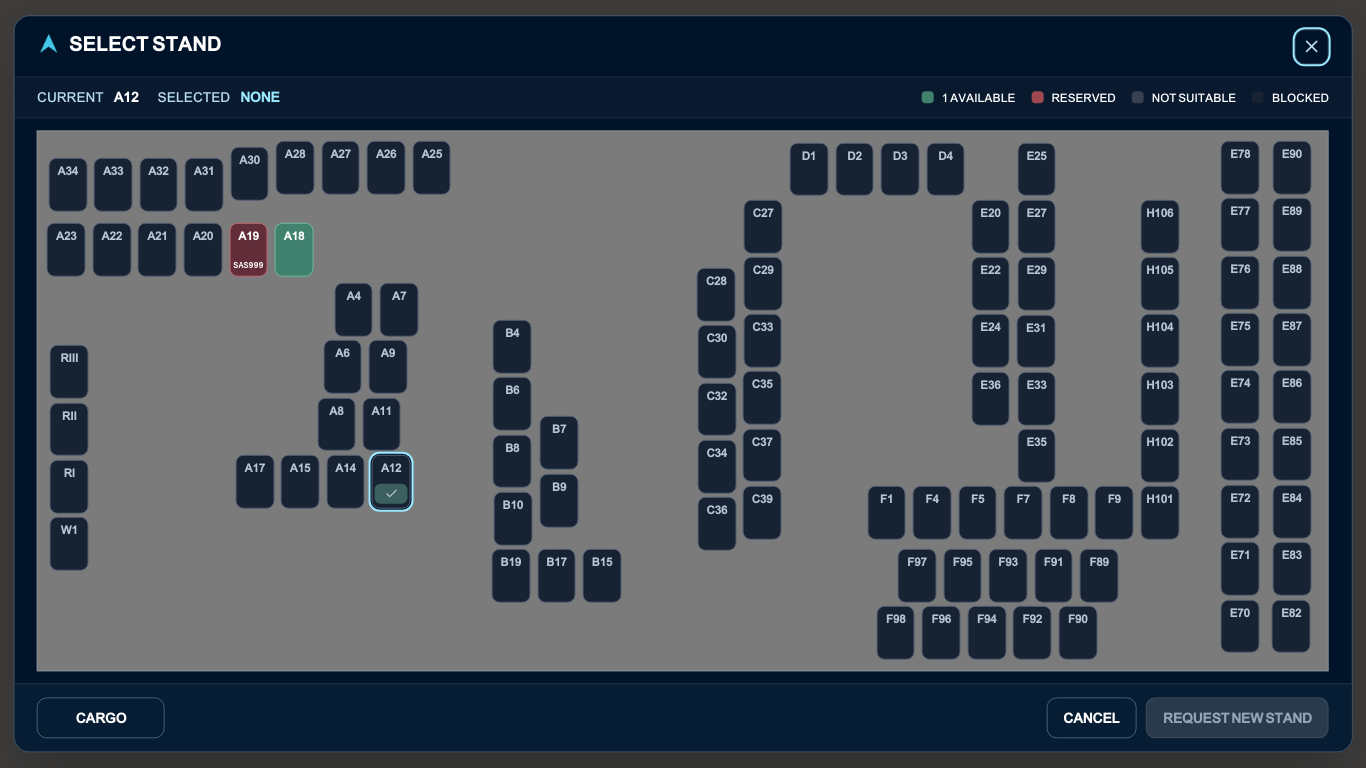
Test: EFB operational dialogs › shows current stand availability and keeps a rejected request open
Check: the button with aria-label "Stand A19" shows "SAS999", box x1=229 y1=223 x2=268 y2=276
Check: the button titled "A19: Unavailable: reserved by SAS999" is disabled, box x1=229 y1=223 x2=268 y2=276
Click the button named "Stand A18": (294, 250) x1=275 y1=223 x2=313 y2=276
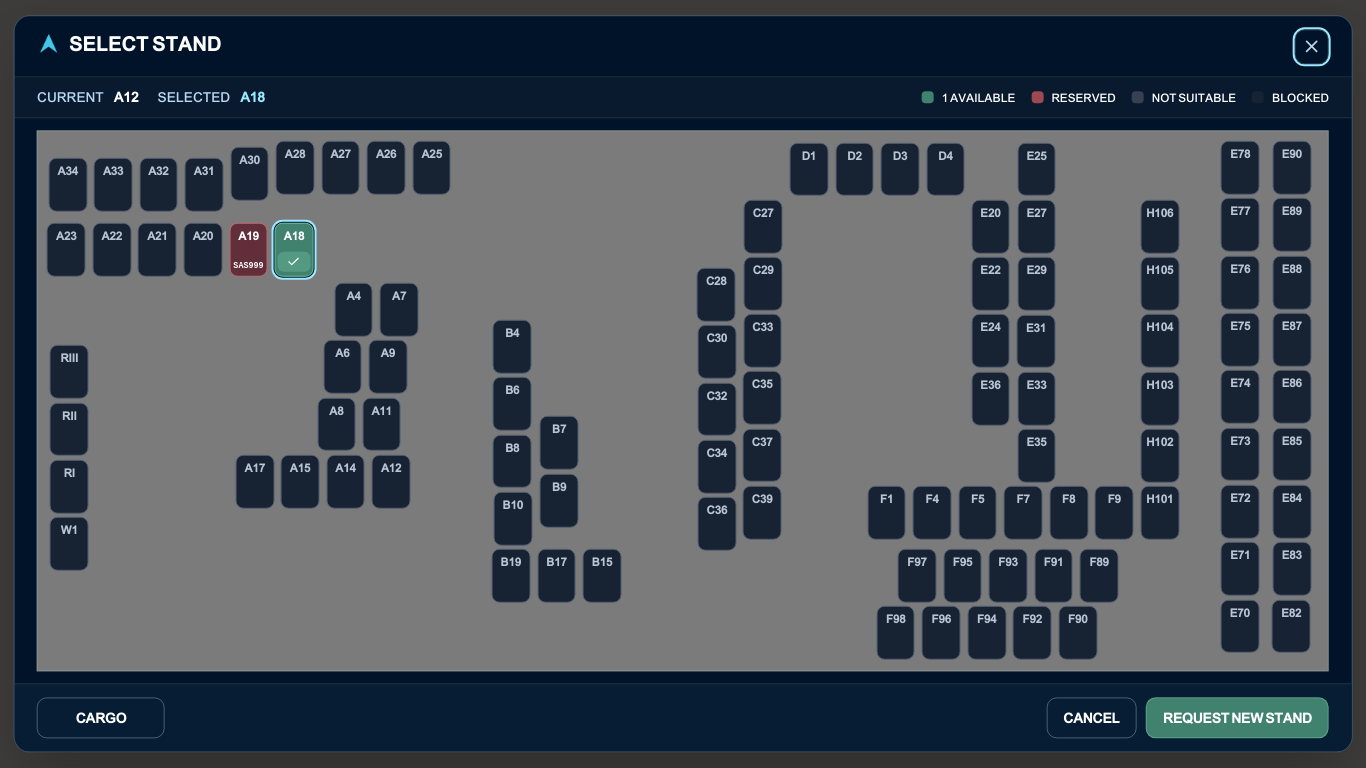
Click the button "REQUEST NEW STAND": (1238, 718) x1=1146 y1=698 x2=1329 y2=739
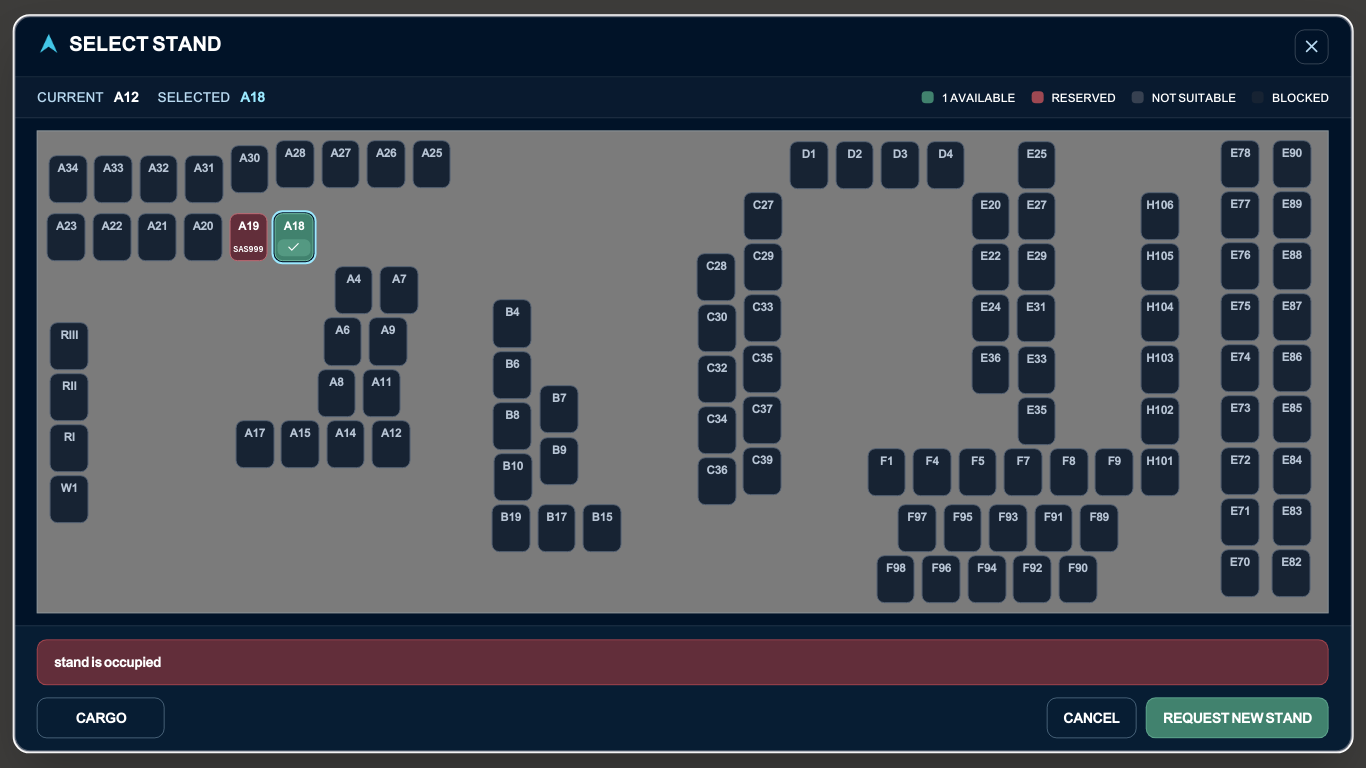
Check: the message "stand is occupied" is shown, box x1=37 y1=640 x2=1329 y2=686
